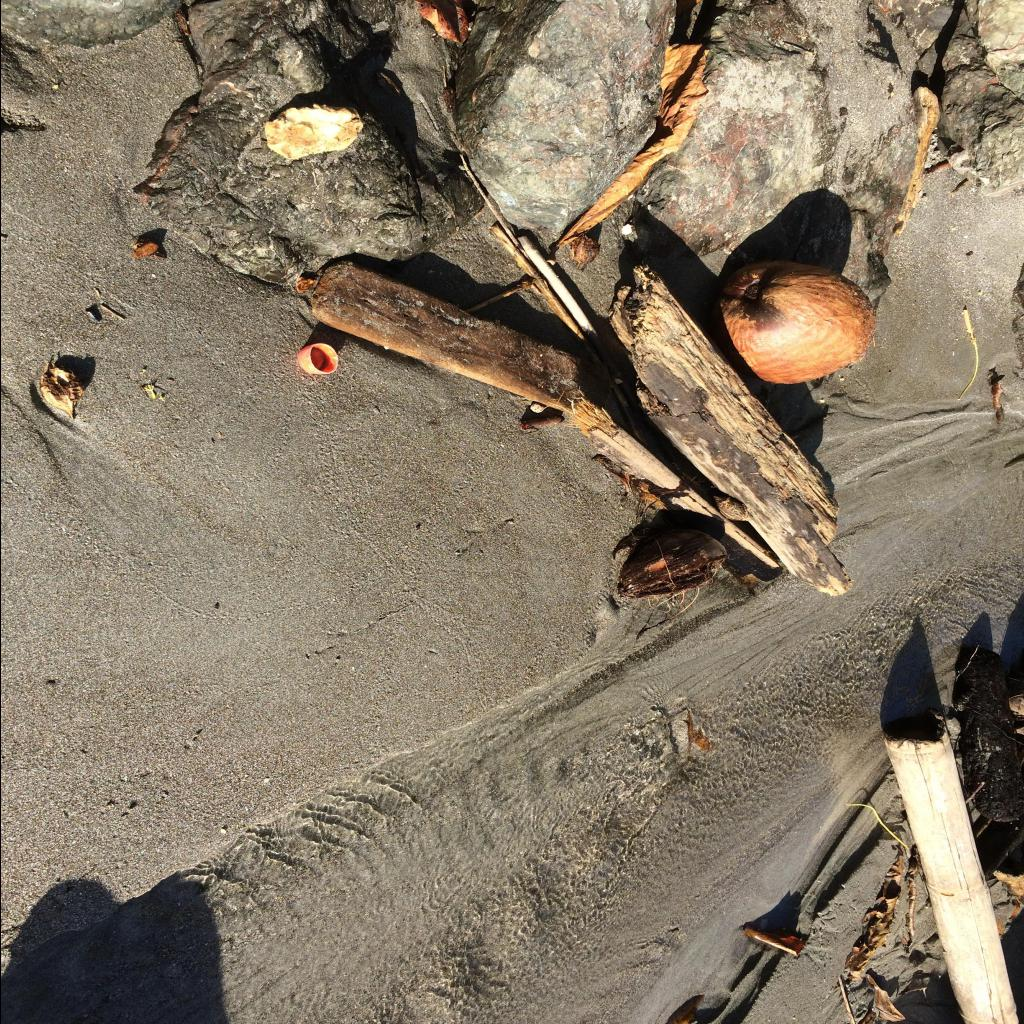Plastic bottle cap: (297, 343, 337, 374)
